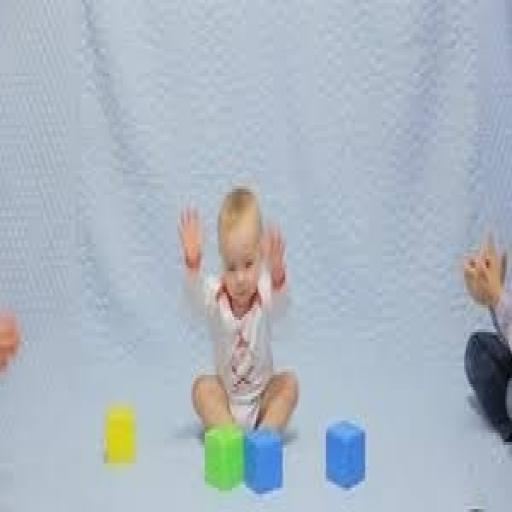clapping: (176, 180, 300, 439), (461, 226, 510, 448)
